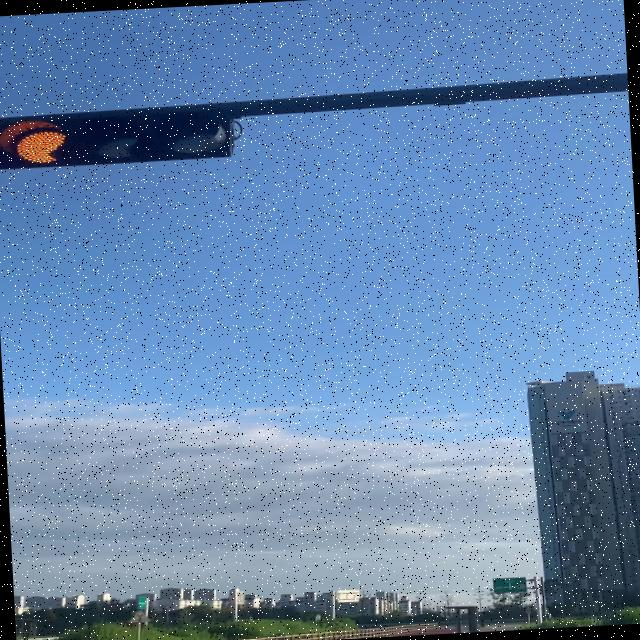yellow_light: (0, 107, 236, 170)
